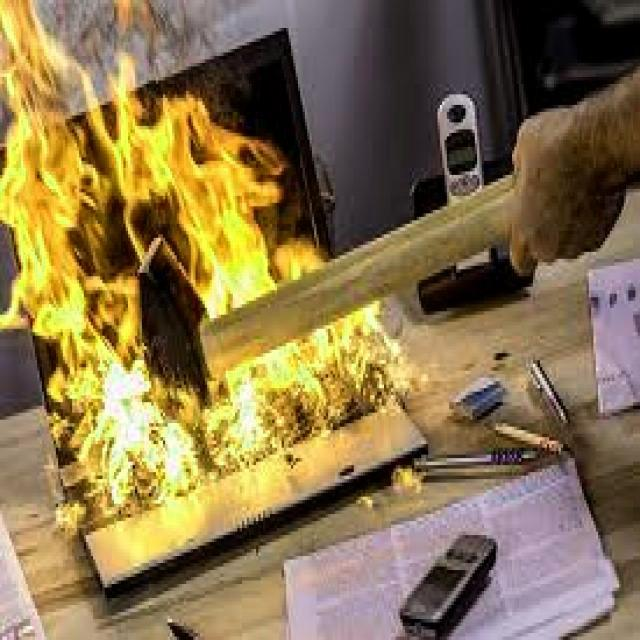hammer: (129, 168, 523, 427)
